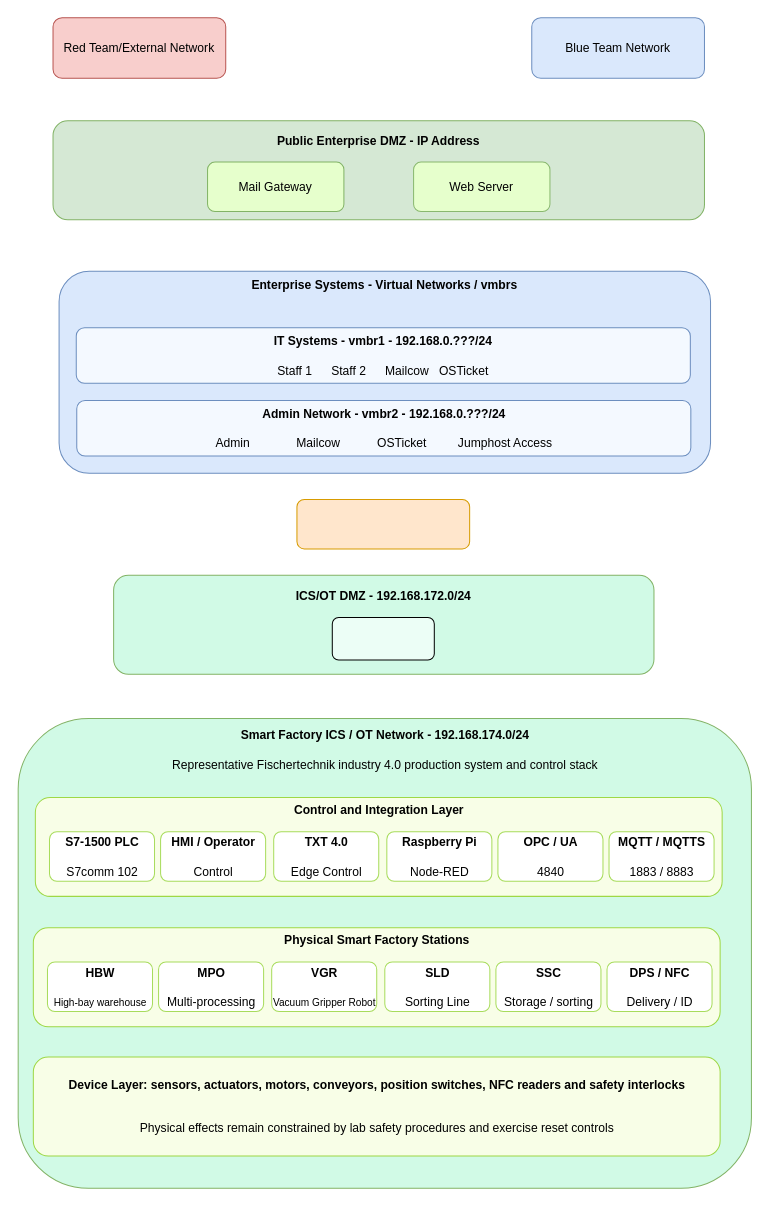
This 769x1206 diagram has some shape labels left out. The centre of each missing label's shape, as x and y in pixels:
Jump Host: the point at 382,638
OT Boundary Firewall: the point at 383,523
